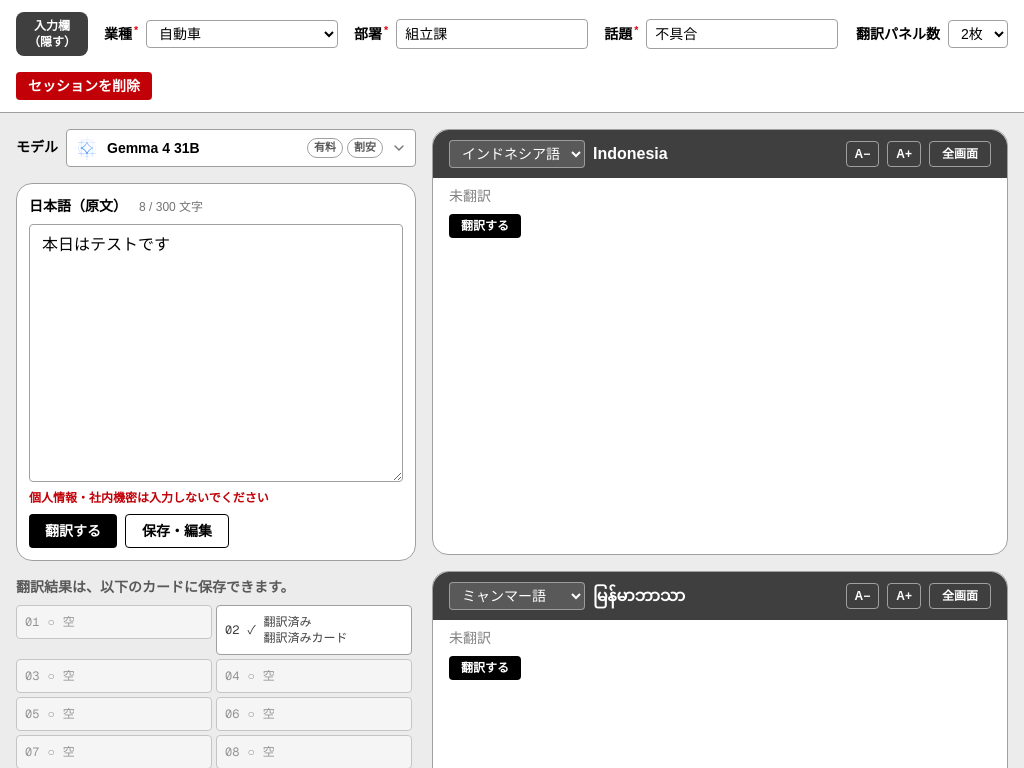
Test: HomePage panels › loading a card points the panels at the languages it has results for
Click the button "02 ✓ 翻訳済み 翻訳済みカード" at [314, 630], box [216, 605, 412, 655]
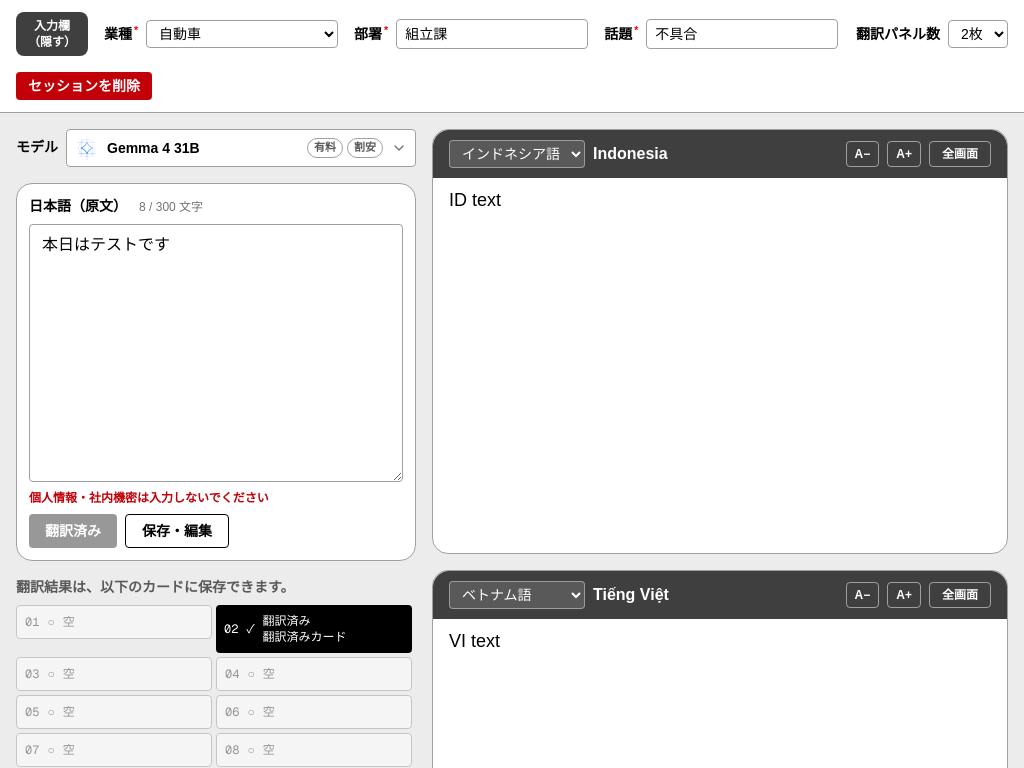
Expected: the dropdown next to "Indonesia" shows "インドネシア語", [449, 140, 585, 168]
Result: the dropdown next to "Tiếng Việt" shows "ベトナム語" at [449, 581, 585, 609]
Result: the text "VI text" is shown at [449, 631, 500, 651]
